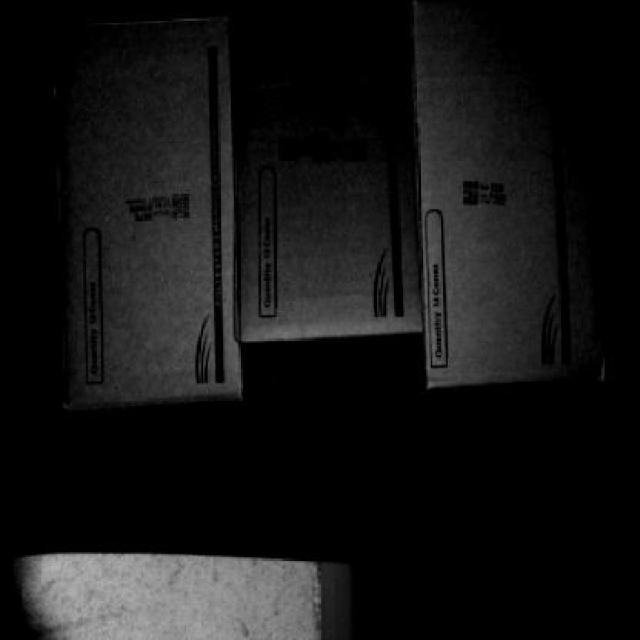cardboxes: (418, 9, 614, 386), (48, 18, 242, 396), (239, 14, 424, 335)
